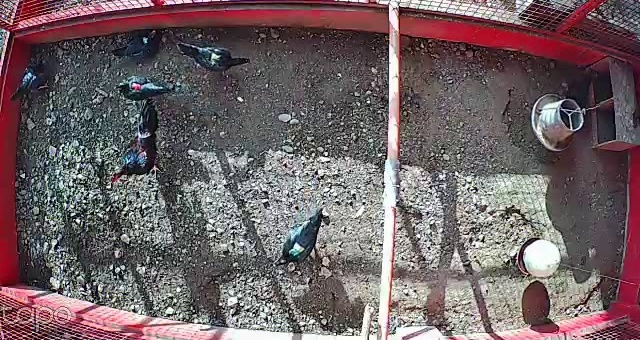Chicken: (275, 206, 324, 271), (176, 40, 253, 75), (8, 51, 60, 101), (112, 23, 174, 62), (113, 70, 173, 109), (562, 68, 596, 111)
Rooster: (104, 102, 180, 188)
Saddle_Color_Red: (133, 82, 140, 89)
Saddle_Color_White: (143, 36, 149, 43)
Saddle_Color_Yellow: (210, 47, 225, 65)
Saddle_Color_YellowGreen: (291, 241, 302, 254)
